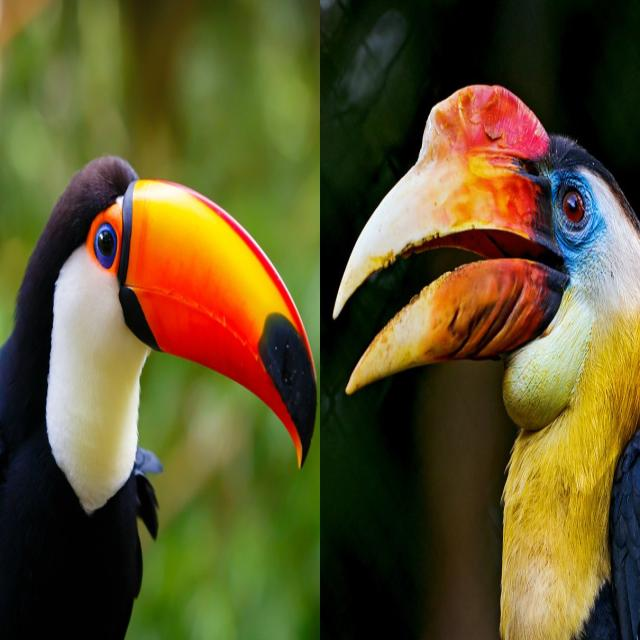Hornbill: (340, 70, 640, 640), (0, 146, 314, 640)
